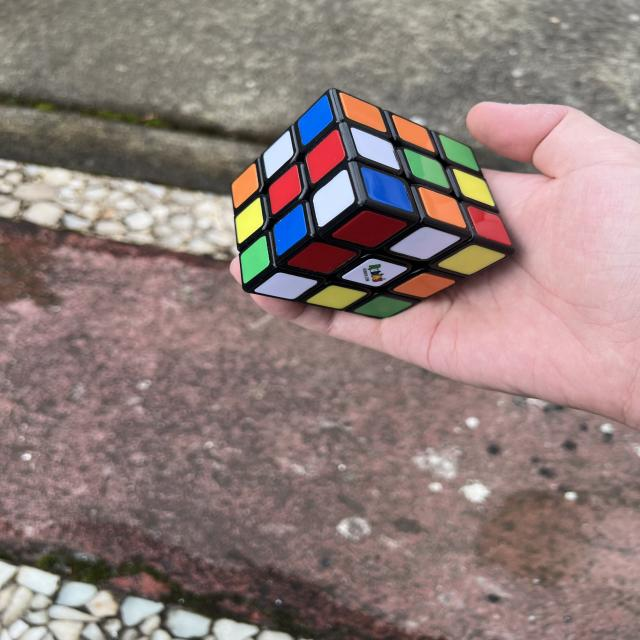blue: (352, 166, 421, 214), (262, 203, 318, 257), (289, 93, 342, 147)
center: (342, 251, 408, 294), (258, 164, 312, 215), (396, 148, 457, 190)
green: (228, 235, 281, 284), (396, 148, 457, 190), (431, 134, 486, 173), (353, 290, 413, 325)
orange: (391, 261, 456, 310), (410, 186, 473, 230), (332, 91, 393, 134), (221, 163, 269, 209), (385, 114, 441, 153)
red: (331, 203, 408, 255), (295, 128, 354, 184), (287, 236, 357, 281), (258, 164, 312, 215), (460, 205, 518, 247)
white: (389, 213, 460, 274), (301, 168, 365, 229), (342, 126, 407, 171), (342, 251, 408, 294), (253, 130, 303, 178), (254, 268, 317, 305)
yellow: (436, 233, 505, 287), (224, 197, 274, 244), (445, 168, 502, 208), (306, 280, 368, 314)
